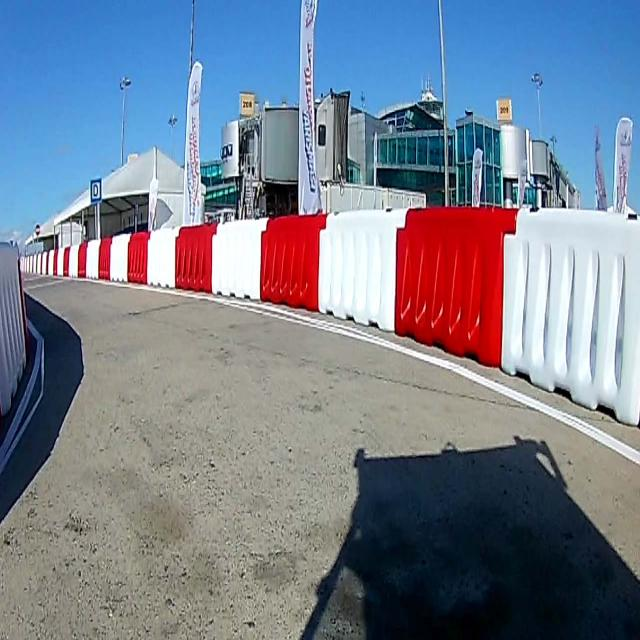durak: (90, 178, 102, 204)
